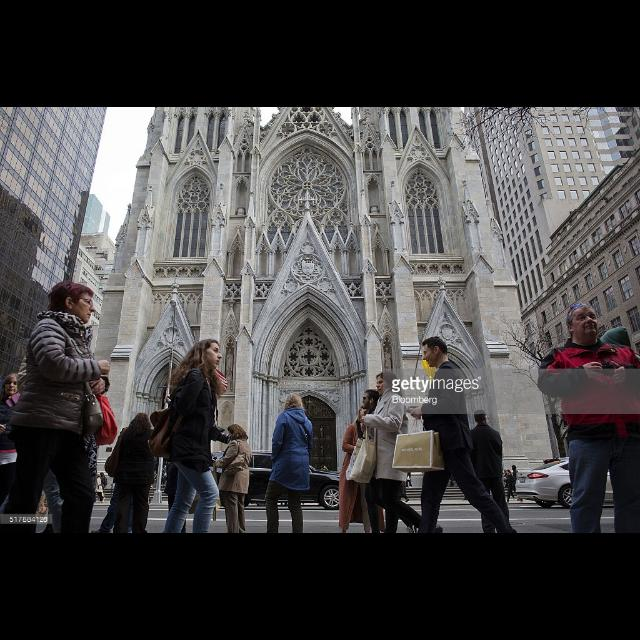head: (56, 280, 98, 326), (566, 304, 600, 342), (602, 329, 632, 358), (194, 340, 223, 370), (422, 337, 448, 369), (376, 373, 396, 397), (360, 390, 380, 410), (4, 374, 20, 396), (359, 406, 375, 424), (287, 395, 303, 413), (228, 425, 242, 443), (475, 410, 489, 426), (136, 414, 148, 428), (96, 474, 100, 480), (100, 474, 104, 478), (164, 466, 168, 470), (512, 466, 516, 470), (506, 471, 510, 475)
person: (510, 465, 526, 505), (505, 469, 519, 505), (93, 474, 107, 504), (99, 472, 109, 503), (159, 464, 167, 490)
